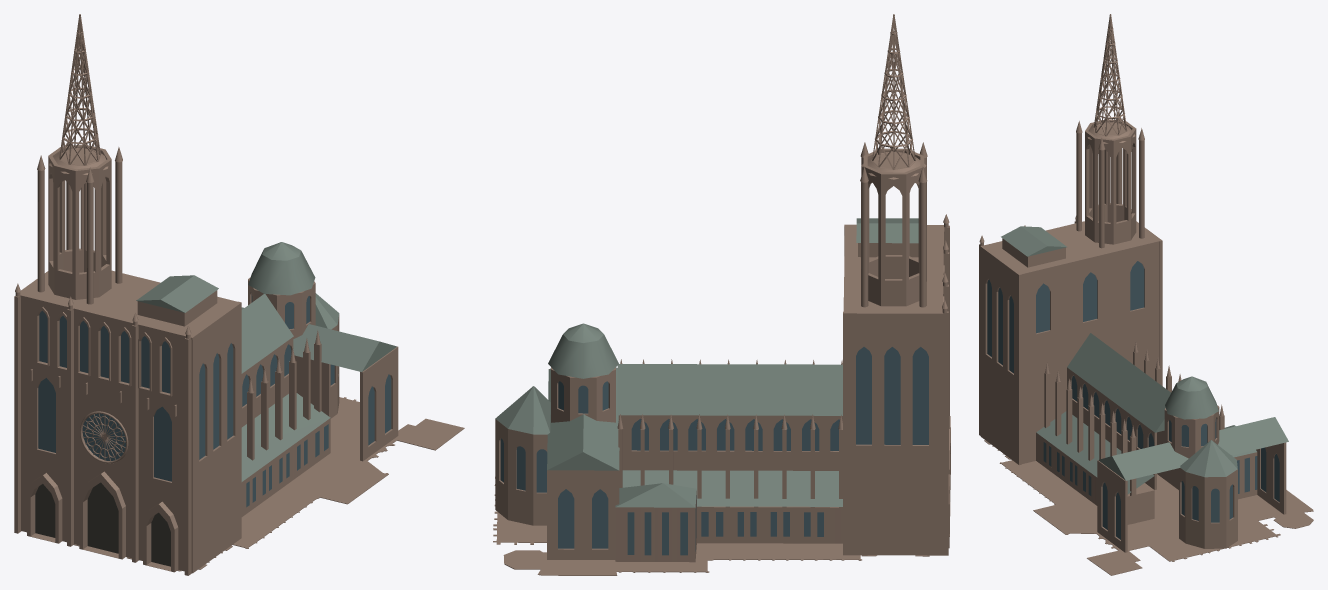
The model's file is cathedrale-notre-dame-strasbourg-near.glb.
The picture shows the model from 3 angles, left to right: view 1: azimuth 30°, elevation 25°; view 2: azimuth 150°, elevation 25°; view 3: azimuth 270°, elevation 25°; orthographic projection. The views are drawn at different scales.
Parts seen in each view (by area): view 1: cathedrale-notre-dame-strasbourg-0-stone, cathedrale-notre-dame-strasbourg-0-roof, cathedrale-notre-dame-strasbourg-0-glass, cathedrale-notre-dame-strasbourg-0-shadow, cathedrale-notre-dame-strasbourg-0-spireFrame; view 2: cathedrale-notre-dame-strasbourg-0-stone, cathedrale-notre-dame-strasbourg-0-roof, cathedrale-notre-dame-strasbourg-0-glass, cathedrale-notre-dame-strasbourg-0-spireFrame (×2); view 3: cathedrale-notre-dame-strasbourg-0-stone, cathedrale-notre-dame-strasbourg-0-roof, cathedrale-notre-dame-strasbourg-0-glass, cathedrale-notre-dame-strasbourg-0-spireFrame.
Part boxes in pixels (<box>): cathedrale-notre-dame-strasbourg-0-stone: <box>14,137,464,575</box>; cathedrale-notre-dame-strasbourg-0-roof: <box>136,242,396,481</box>; cathedrale-notre-dame-strasbourg-0-glass: <box>38,294,391,507</box>; cathedrale-notre-dame-strasbourg-0-shadow: <box>35,482,170,566</box>; cathedrale-notre-dame-strasbourg-0-spireFrame: <box>59,15,100,165</box>; cathedrale-notre-dame-strasbourg-0-stone: <box>493,142,950,575</box>; cathedrale-notre-dame-strasbourg-0-roof: <box>495,218,918,507</box>; cathedrale-notre-dame-strasbourg-0-glass: <box>500,347,928,555</box>; cathedrale-notre-dame-strasbourg-0-spireFrame (×2): <box>872,14,915,169</box>; cathedrale-notre-dame-strasbourg-0-stone: <box>979,112,1313,575</box>; cathedrale-notre-dame-strasbourg-0-roof: <box>1001,226,1288,494</box>; cathedrale-notre-dame-strasbourg-0-glass: <box>987,261,1279,539</box>; cathedrale-notre-dame-strasbourg-0-spireFrame: <box>1093,15,1127,136</box>.
Bounding box in the file's own units: 130 × 142 × 105.
